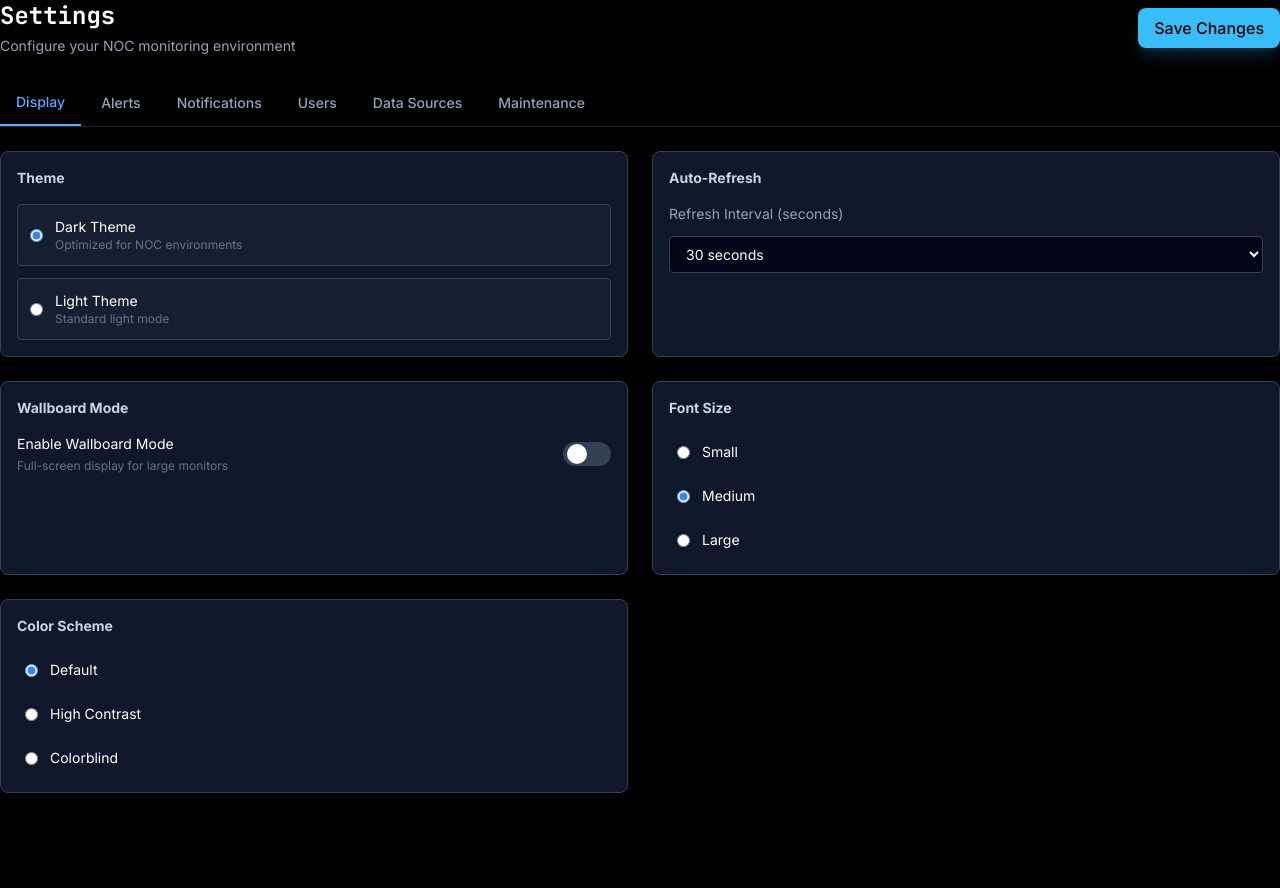
Test: SettingsPage › switches to Maintenance tab when clicked
Click the button "Maintenance" at x=542, y=103, box [482, 80, 601, 126]
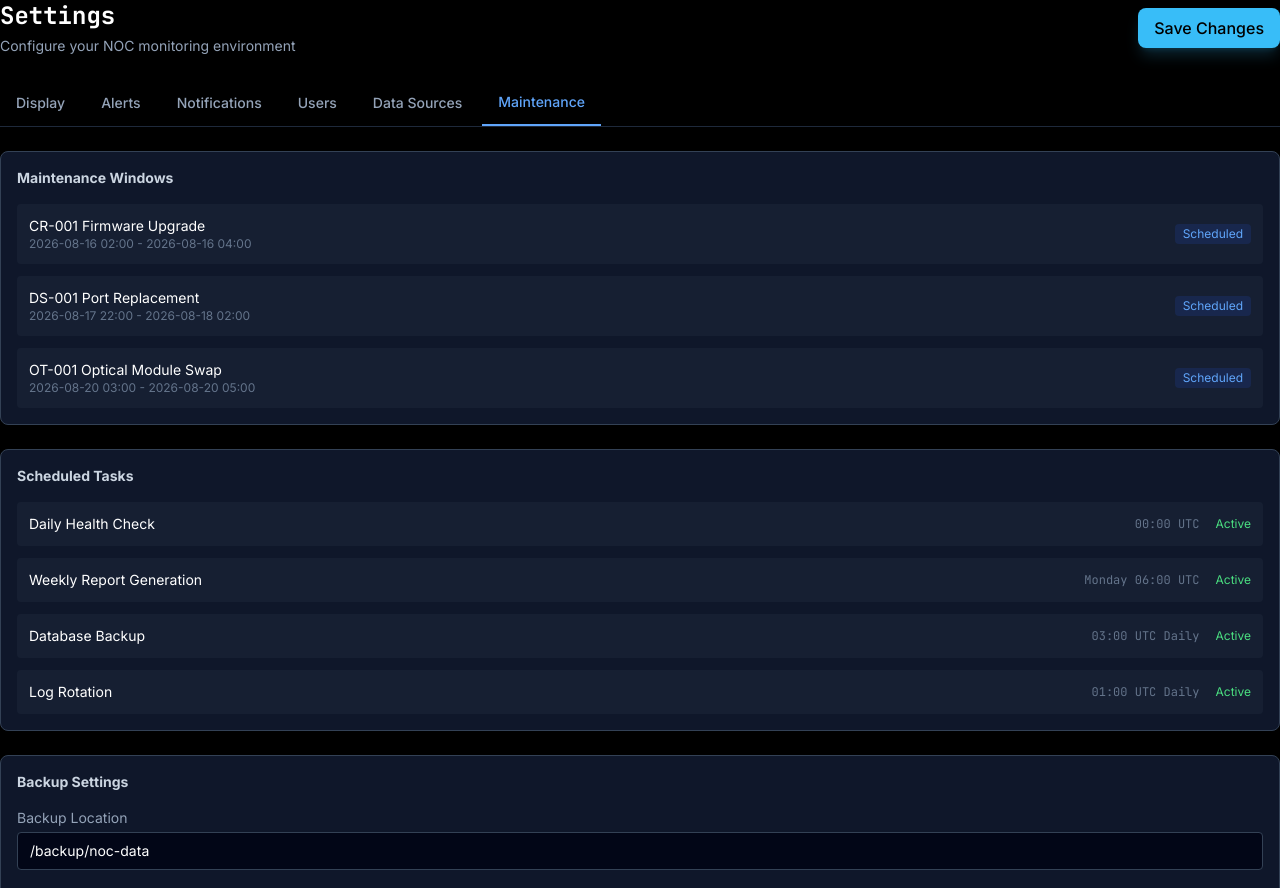
Result: the heading "Maintenance Windows" is shown at [17, 169, 174, 186]
Result: the heading "Scheduled Tasks" is shown at [17, 467, 134, 484]
Result: the heading "Backup Settings" is shown at [17, 773, 128, 790]
